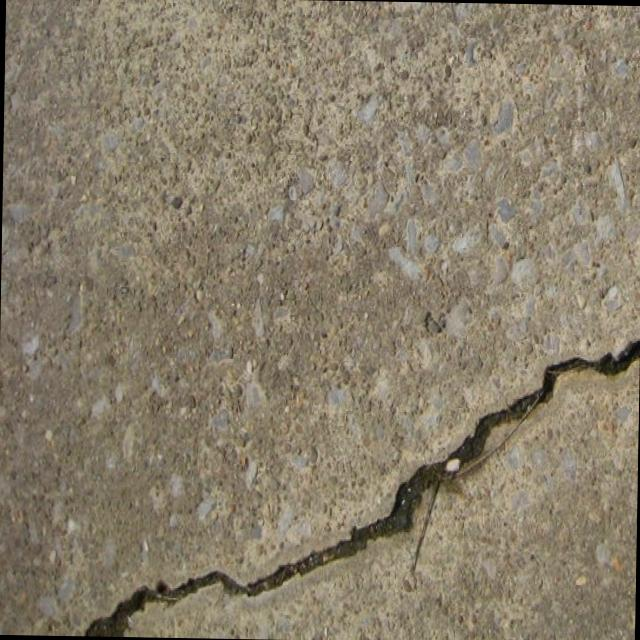crack: (85, 327, 638, 640)
